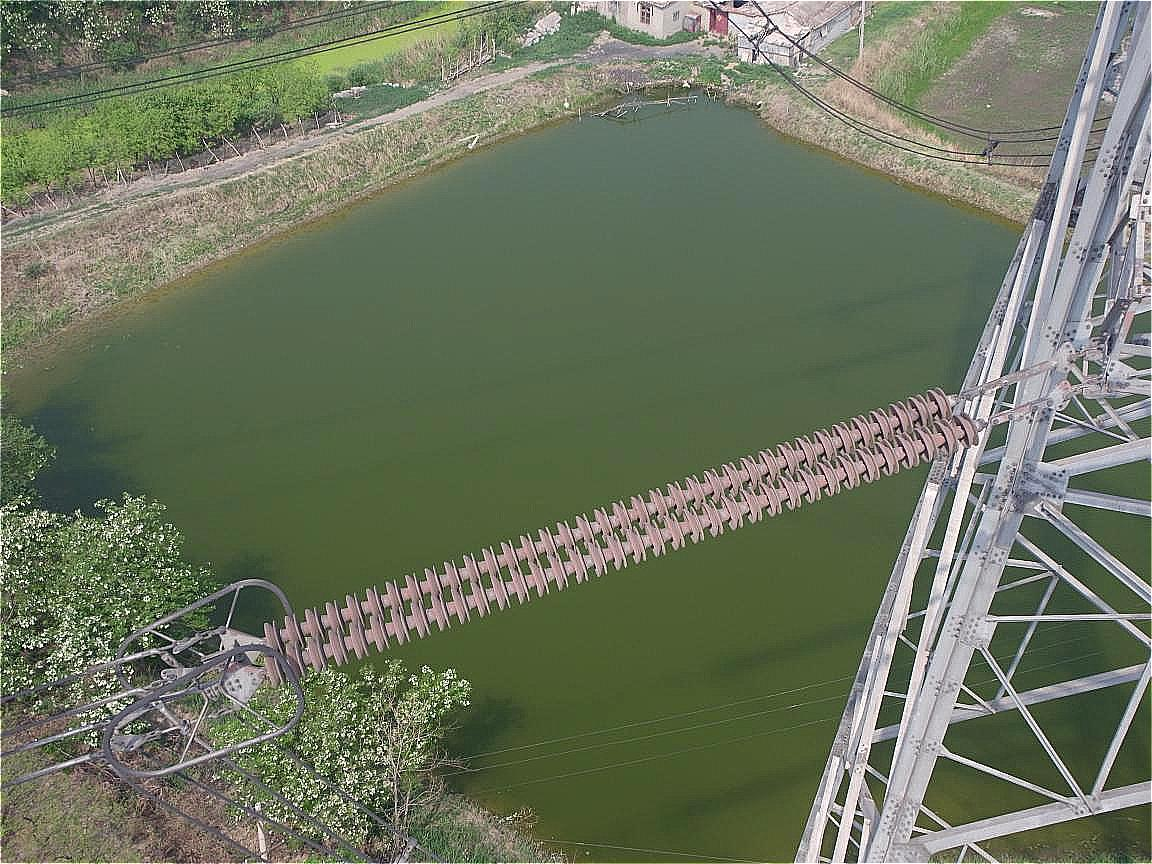insultor2: (236, 358, 1031, 713)
